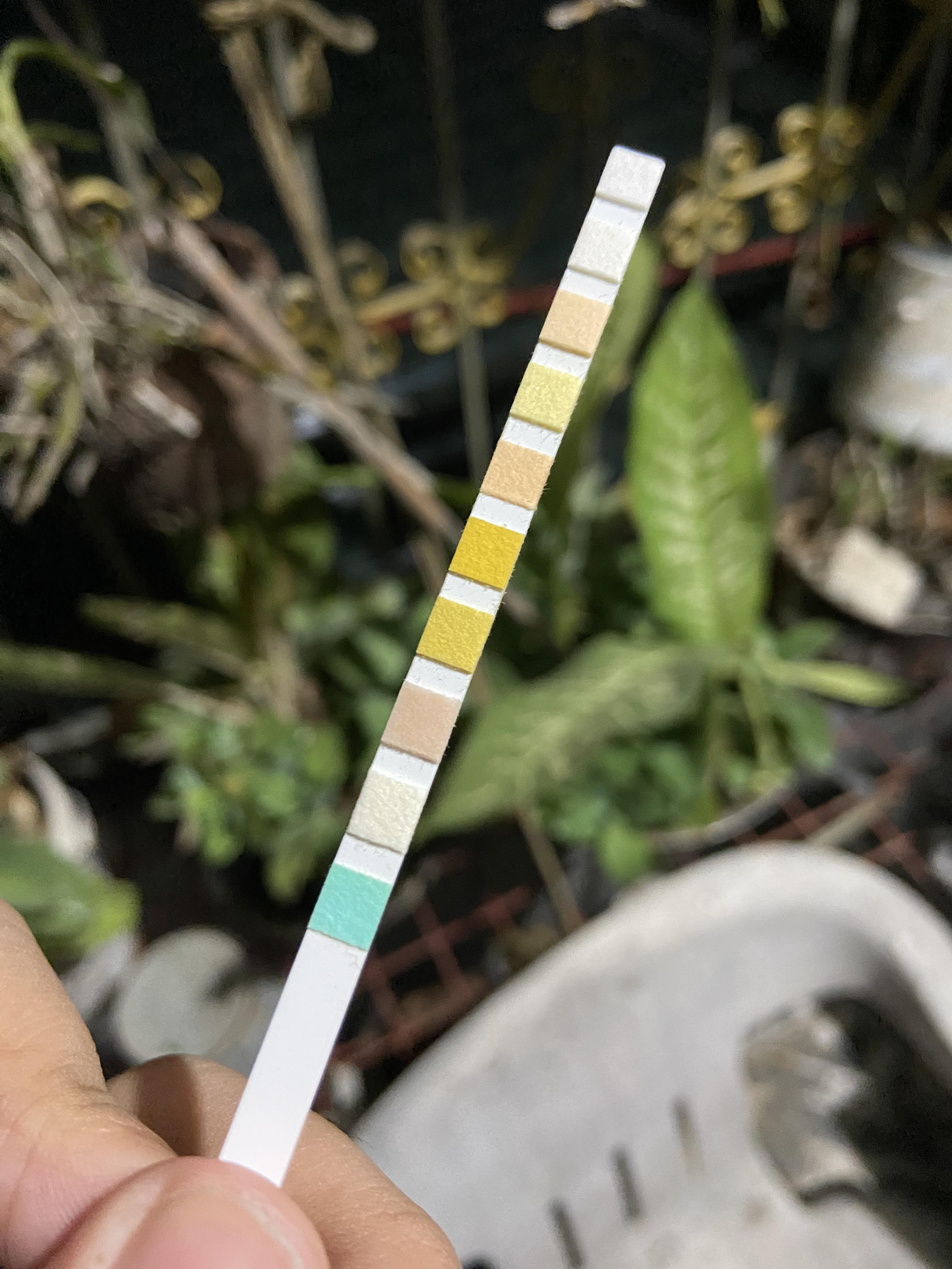Bilirubin: (362, 790, 414, 836)
Blood: (463, 537, 514, 572)
Glucose: (323, 889, 378, 929)
Ketone: (395, 702, 448, 743)
Leukocytes: (606, 164, 657, 194)
Nitrite: (580, 234, 629, 264)
Protein: (523, 381, 574, 413)
SpGravity: (428, 616, 484, 653)
Urobilinogen: (551, 306, 602, 342)
pH: (492, 456, 540, 493)
strip: (222, 148, 667, 1176)
